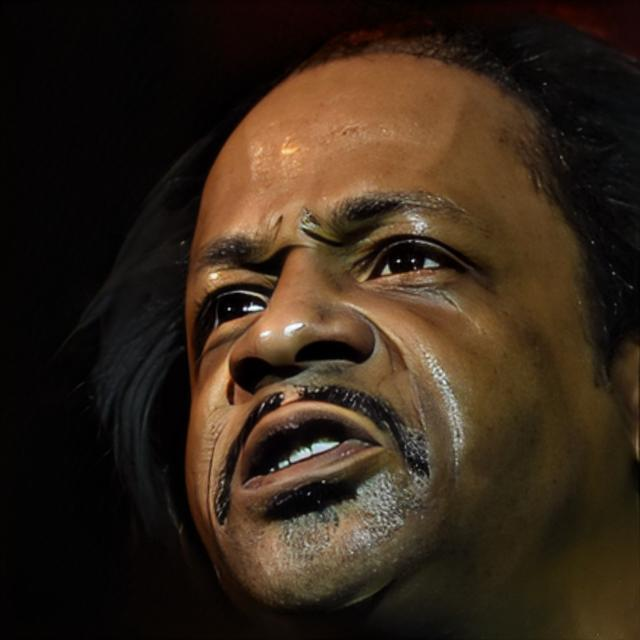disgust: (179, 53, 615, 640)
